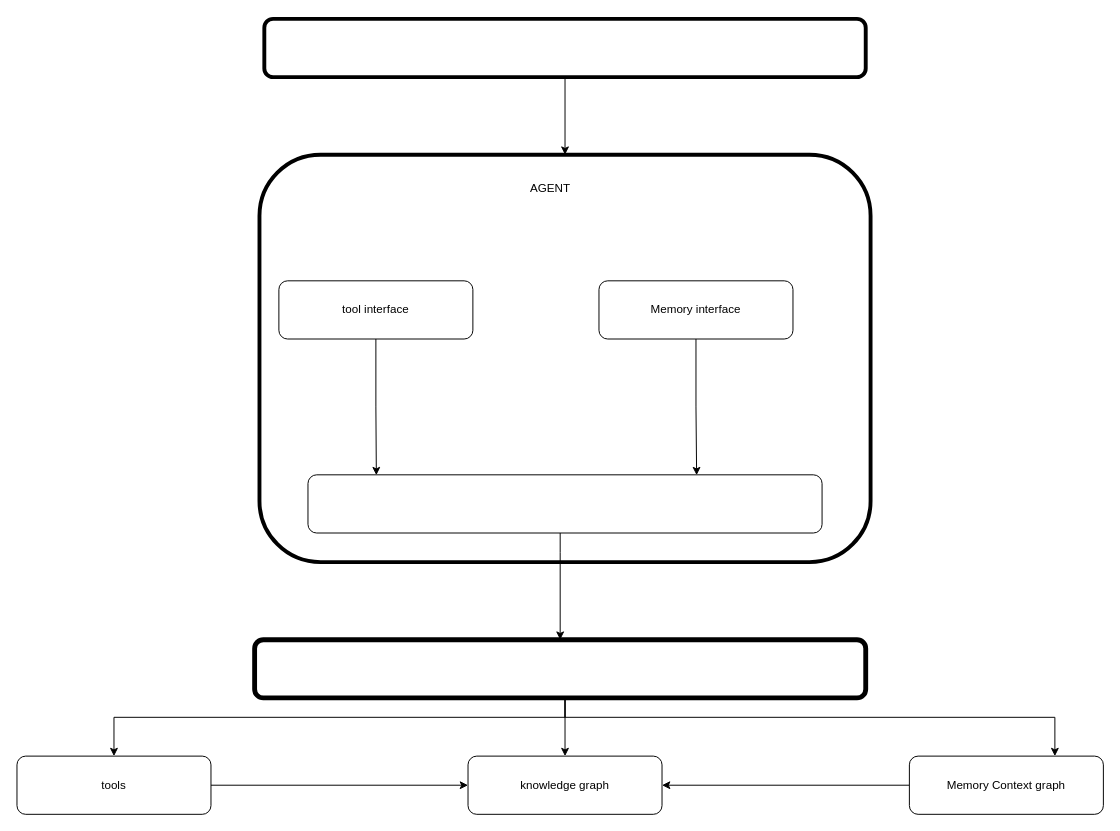
The diagram is 1120 pixels wide and 831 high, and some of its shapes have lost their labels. Here are the shapes that lost their labels. From the top down, the centre of each, then its label:
At [564,47]: "stream - UI".
At [564,503]: "MCP client".
At [560,668]: "MCP Server".
